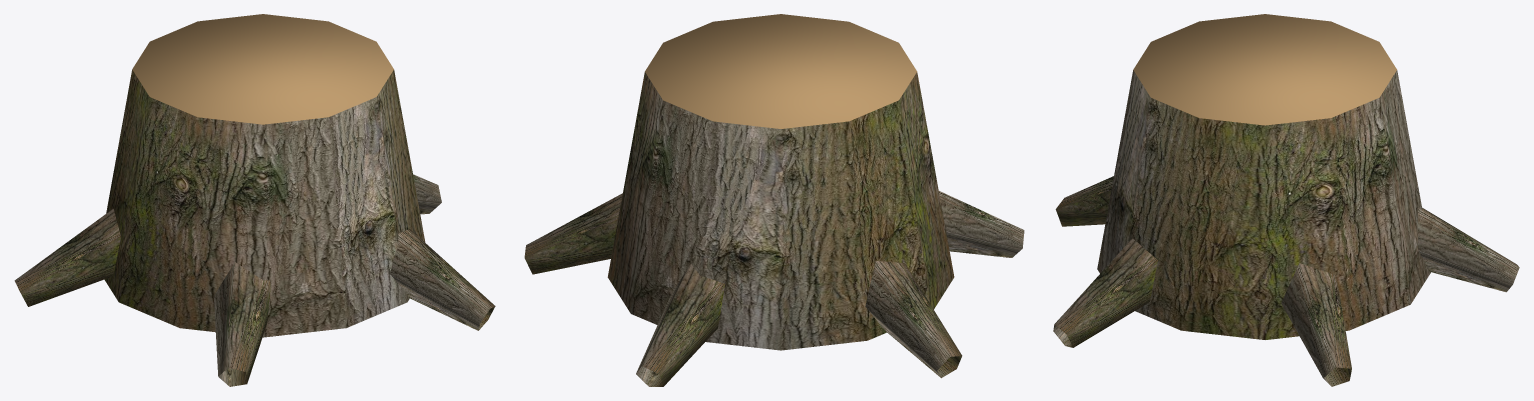
File: n-stump.glb
3 views of the same model, side by side, from view 1: azimuth 30°, elevation 25°; view 2: azimuth 150°, elevation 25°; view 3: azimuth 270°, elevation 25° (orthographic). The views are drawn at different scales.
Parts seen in each view (by area): view 1: stump; view 2: stump; view 3: stump.
Part boxes in pixels (left/top/right/bottom): stump: left=14, top=14, right=495, bottom=386; stump: left=524, top=14, right=1024, bottom=386; stump: left=1053, top=14, right=1519, bottom=386.
Bounding box in the file's own units: 1.22 × 0.6043 × 1.17.
Materials: 2 (1 with a texture image).
